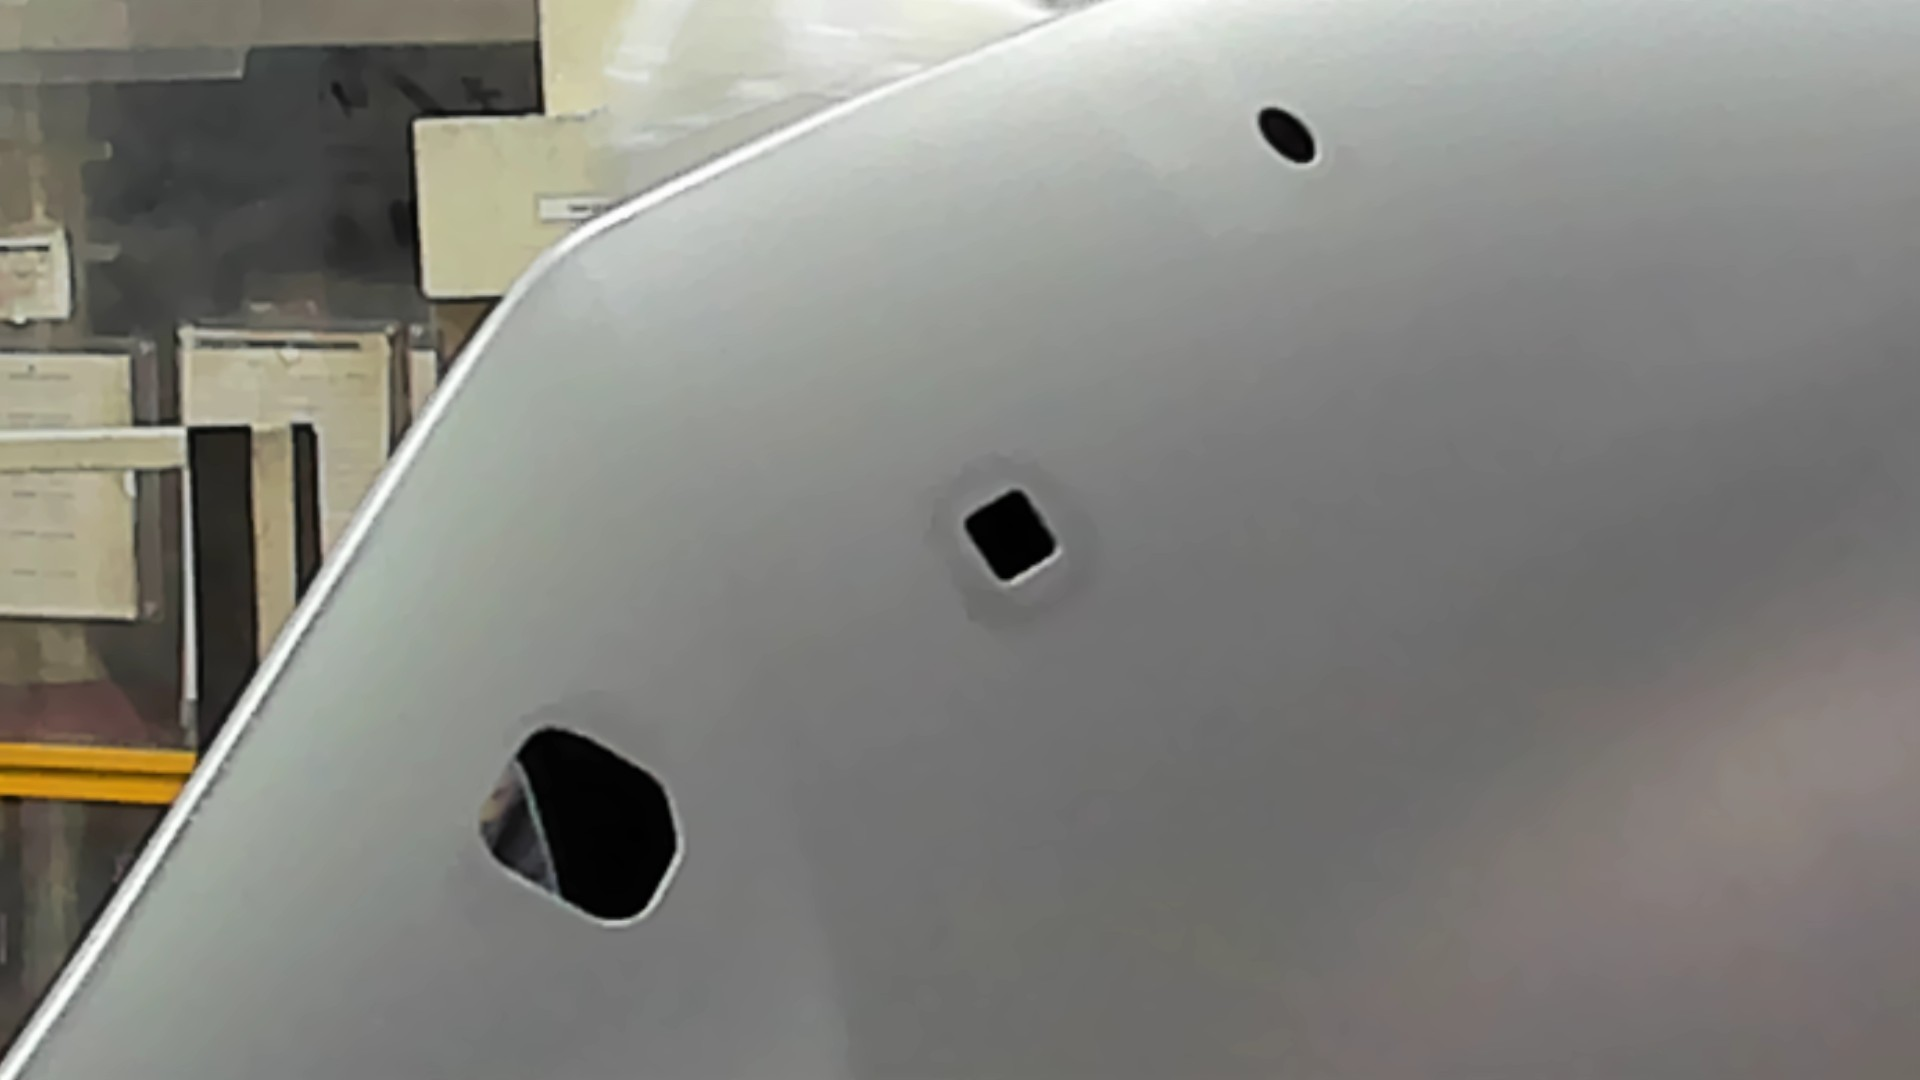chico: (1255, 99, 1323, 167)
grande: (469, 717, 688, 938)
mediano: (951, 481, 1069, 597)
